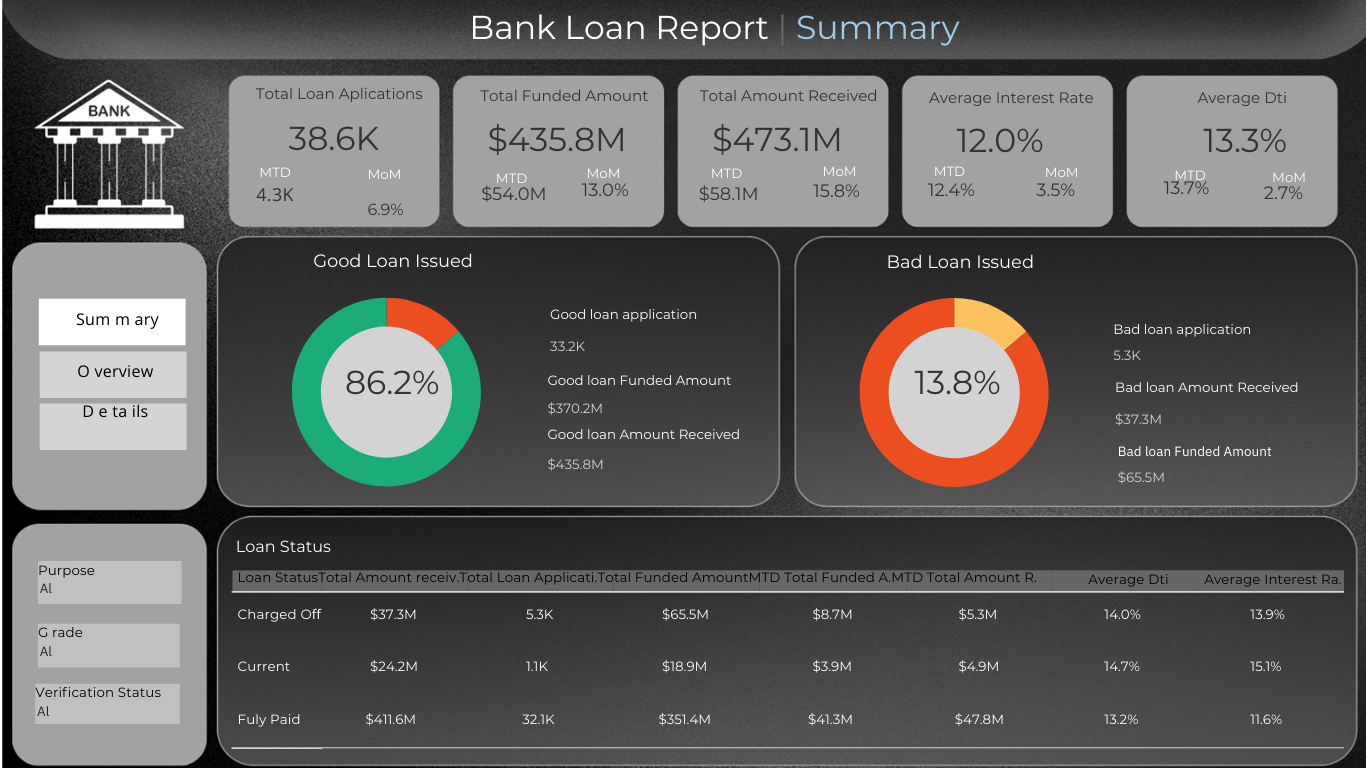

This screenshot's page, from the dashboard's own definition file:
{"tool":"tableau","page":{"name":"Summary","canvas":[1600,900],"ordinal":2},"visuals":[{"type":"image","box":[8,8,32,884]},{"type":"image","param":"C:/Users/Elish/Downloads/Bank Tableau dashboard/1.png","box":[40,8,1552,884]},{"type":"text","box":[562,28,510,50]},{"type":"worksheet","title":"Total Loan applications","mark":"Automatic","box":[308,109,213,101]},{"type":"worksheet","title":"Total amounrt Received","mark":"Automatic","box":[803,109,225,105]},{"type":"worksheet","title":"Total Funded Loan","mark":"Automatic","box":[553,110,222,105]},{"type":"worksheet","title":"Average Interest Rate","mark":"Automatic","box":[1051,113,229,98]},{"type":"worksheet","title":"Average Dti","mark":"Automatic","box":[1309,113,217,102]},{"type":"text","box":[1205,193,100,38]},{"type":"text","box":[957,194,100,38]},{"type":"text","box":[1081,196,100,30]},{"type":"text","box":[450,197,100,38]},{"type":"text","box":[328,198,100,30]},{"type":"text","box":[832,198,100,30]},{"type":"text","box":[1459,198,100,38]},{"type":"text","box":[688,199,100,38]},{"type":"text","box":[1335,200,100,30]},{"type":"worksheet","title":"MTD Total Amount Received","mark":"Automatic","box":[818,201,81,76]},{"type":"text","box":[592,203,100,30]},{"type":"worksheet","title":"MOM Total Amount Received ","mark":"Automatic","box":[929,207,102,60]},{"type":"worksheet","title":"MOM Average Interest Rate","mark":"Automatic","box":[1173,209,100,51]},{"type":"worksheet","title":"Mtd Interest Rate","mark":"Automatic","box":[1058,210,100,52]},{"type":"worksheet","title":"MTD Total Funded Amount","mark":"Automatic","box":[570,211,91,57]},{"type":"worksheet","title":"MOM Average Dti","mark":"Automatic","box":[1427,212,101,52]},{"type":"worksheet","title":"MOM Total Funded Amount","mark":"Automatic","box":[670,214,93,51]},{"type":"worksheet","title":"MTD Total Loan Applications","mark":"Automatic","box":[309,215,82,47]},{"type":"worksheet","title":"MTD Average Dti ","mark":"Automatic","box":[1309,215,100,47]},{"type":"worksheet","title":"MOM loan Applications","mark":"Automatic","box":[442,225,65,32]},{"type":"worksheet","title":"Good Loan Issued","mark":"Pie","rows":["Calculation_565764743742230557","Calculation_565764743742230557"],"box":[296,294,355,283]},{"type":"worksheet","title":"Bad Loan Issued ","mark":"Pie","rows":["Calculation_565764743742230557","Calculation_565764743742230557"],"box":[935,295,345,282]},{"type":"dashboard-object","box":[85,352,164,52]},{"type":"worksheet","title":"Good loan application ","mark":"Automatic","box":[652,356,199,71]},{"type":"worksheet","title":"Bad loan application","mark":"Automatic","box":[1281,371,272,57]},{"type":"worksheet","title":"Bad loan application % ","mark":"Automatic","box":[1047,396,144,111]},{"type":"worksheet","title":"Good loan application %","mark":"Automatic","box":[415,406,135,89]},{"type":"dashboard-object","box":[86,411,164,52]},{"type":"worksheet","title":"Good loan Funded Amount","mark":"Automatic","box":[649,430,238,60]},{"type":"worksheet","title":"Bad loan Amount Received ","mark":"Automatic","box":[1283,438,247,73]},{"type":"dashboard-object","box":[86,469,164,52]},{"type":"worksheet","title":"Good loan Amount Received ","mark":"Automatic","box":[649,495,277,66]},{"type":"worksheet","title":"Bad loan Funded Amount","mark":"Automatic","box":[1286,507,251,55]},{"type":"worksheet","title":"Loan Status","mark":"Automatic","rows":["loan_status"],"box":[300,614,1244,241]},{"type":"filter","title":"Good Loan Issued","param":"[federated.03zki4g1ypc76a12h7jzq18jh7zt].[none:purpose:nk]","box":[84,645,160,48]},{"type":"filter","title":"Good Loan Issued","param":"[federated.03zki4g1ypc76a12h7jzq18jh7zt].[none:grade:nk]","box":[84,715,158,49]},{"type":"filter","title":"Good Loan Issued","param":"[federated.03zki4g1ypc76a12h7jzq18jh7zt].[none:verification_status:nk]","box":[81,782,161,45]}]}

Visuals, with their boxes in screenshot pixels (x1, y1, x2, y2), scaled from the page's 1600x900 canvas onto the 1366x768 screenshot:
image: 7/7/34/761
image: 34/7/1359/761
text: 480/24/915/67
"Total Loan applications" worksheet: 263/93/445/179
"Total amounrt Received" worksheet: 686/93/878/183
"Total Funded Loan" worksheet: 472/94/662/183
"Average Interest Rate" worksheet: 897/96/1093/180
"Average Dti" worksheet: 1118/96/1303/183
text: 1029/165/1114/197
text: 817/166/902/198
text: 923/167/1008/193
text: 384/168/470/201
text: 280/169/365/195
text: 710/169/796/195
text: 1246/169/1331/201
text: 587/170/673/202
text: 1140/171/1225/196
"MTD Total Amount Received" worksheet: 698/172/768/236
text: 505/173/591/199
"MOM Total Amount Received " worksheet: 793/177/880/228
"MOM Average Interest Rate" worksheet: 1001/178/1087/222
"Mtd Interest Rate" worksheet: 903/179/989/224
"MTD Total Funded Amount" worksheet: 487/180/564/229
"MOM Average Dti" worksheet: 1218/181/1305/225
"MOM Total Funded Amount" worksheet: 572/183/651/226
"MTD Total Loan Applications" worksheet: 264/183/334/224
"MTD Average Dti " worksheet: 1118/183/1203/224
"MOM loan Applications" worksheet: 377/192/433/219
"Good Loan Issued" worksheet (Pie marks): 253/251/556/492
"Bad Loan Issued " worksheet (Pie marks): 798/252/1093/492
dashboard-object: 73/300/213/345
"Good loan application " worksheet: 557/304/727/364
"Bad loan application" worksheet: 1094/317/1326/365
"Bad loan application % " worksheet: 894/338/1017/433
"Good loan application %" worksheet: 354/346/470/422
dashboard-object: 73/351/213/395
"Good loan Funded Amount" worksheet: 554/367/757/418
"Bad loan Amount Received " worksheet: 1095/374/1306/436
dashboard-object: 73/400/213/445
"Good loan Amount Received " worksheet: 554/422/791/479
"Bad loan Funded Amount" worksheet: 1098/433/1312/480
"Loan Status" worksheet: 256/524/1318/730
"Good Loan Issued" filter: 72/550/208/591
"Good Loan Issued" filter: 72/610/207/652
"Good Loan Issued" filter: 69/667/207/706
